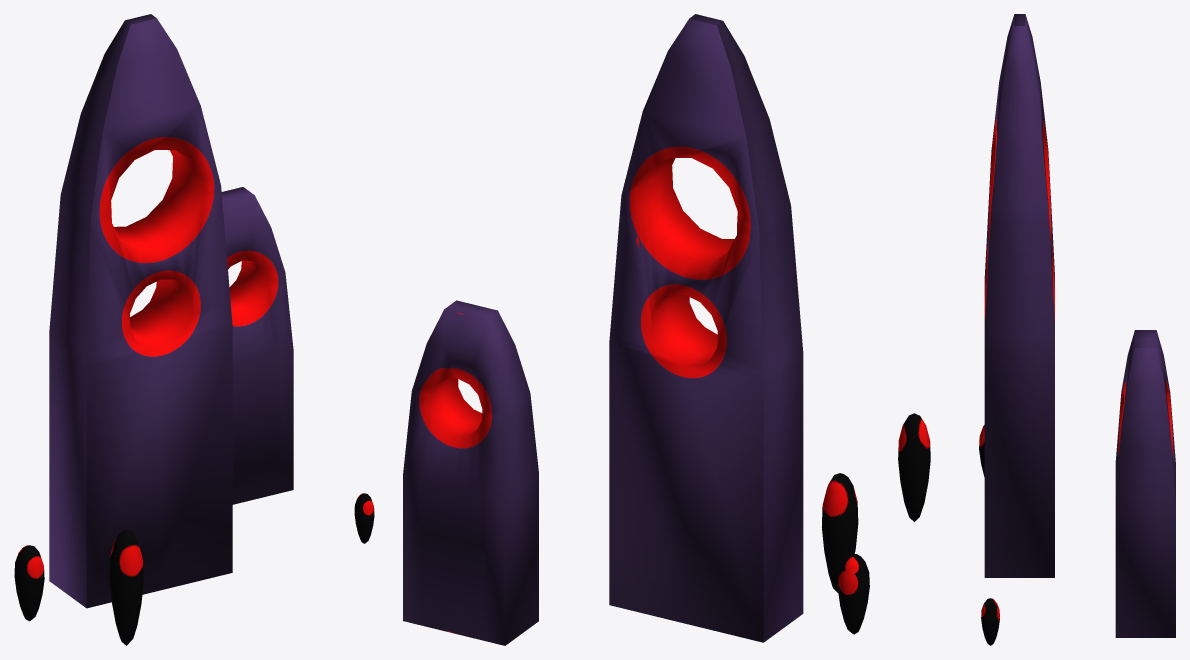
Rendered from CorruptionSet_1.fbx.
3 renders of one model, left to right at view 1: azimuth 30°, elevation 25°; view 2: azimuth 150°, elevation 25°; view 3: azimuth 270°, elevation 25°, orthographic. The views are drawn at different scales.
Visible parts, largest first — view 1: LongCorruptionStatue.002, ShortCorruptionStatue.002, Blobs; view 2: LongCorruptionStatue.002, ShortCorruptionStatue.002, Blobs; view 3: LongCorruptionStatue.002, ShortCorruptionStatue.002, Blobs.
Boxes of the visible parts, box(x1,y1,x2,y2) form: LongCorruptionStatue.002: box(49, 14, 232, 608); ShortCorruptionStatue.002: box(221, 187, 293, 504); Blobs: box(14, 493, 374, 645); LongCorruptionStatue.002: box(609, 14, 803, 642); ShortCorruptionStatue.002: box(403, 300, 538, 645); Blobs: box(822, 473, 869, 634); LongCorruptionStatue.002: box(984, 14, 1054, 577); ShortCorruptionStatue.002: box(1115, 330, 1175, 637); Blobs: box(898, 413, 999, 645).
Size of what is drawn, in the model's own units: 230 by 351 by 165.
